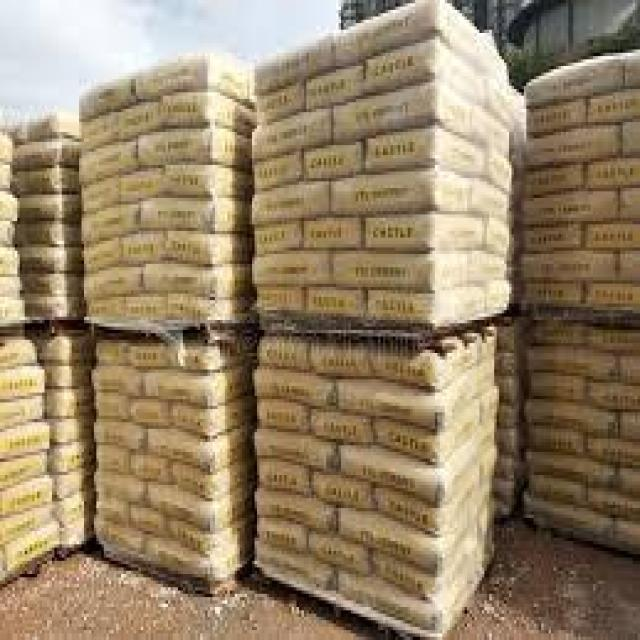gunny_bag: (331, 544, 479, 637), (335, 502, 477, 578), (333, 365, 478, 432), (337, 440, 481, 504), (336, 4, 481, 65), (333, 81, 472, 144), (374, 401, 481, 466), (328, 171, 469, 217), (364, 125, 485, 176), (146, 481, 252, 533), (144, 533, 251, 584), (147, 422, 252, 473), (334, 253, 469, 292), (136, 57, 248, 101), (144, 361, 247, 408), (367, 38, 461, 86), (528, 59, 623, 106), (255, 39, 332, 95), (137, 129, 245, 168), (368, 214, 482, 250), (159, 93, 256, 134), (523, 495, 613, 539), (524, 126, 618, 167), (250, 111, 328, 160), (254, 490, 337, 536), (143, 264, 252, 299), (521, 399, 618, 438), (170, 395, 252, 441), (139, 197, 243, 233), (171, 515, 249, 562), (255, 429, 337, 472), (526, 449, 616, 488), (171, 459, 249, 502), (251, 182, 329, 224), (523, 191, 618, 225), (156, 165, 245, 201), (525, 347, 618, 381), (255, 367, 334, 407), (162, 232, 243, 268), (369, 288, 463, 319), (308, 530, 371, 575), (521, 254, 615, 282), (77, 77, 135, 122), (306, 64, 363, 108), (312, 470, 372, 511), (253, 254, 331, 285), (77, 145, 137, 185), (166, 295, 244, 324), (310, 342, 370, 378), (1, 503, 50, 547), (82, 267, 144, 301), (2, 477, 53, 518), (471, 106, 511, 158), (586, 88, 640, 126), (259, 458, 311, 496), (92, 418, 148, 453), (530, 99, 585, 134), (311, 411, 370, 443), (2, 451, 47, 492), (586, 488, 640, 522), (2, 421, 50, 459), (16, 194, 80, 222), (307, 145, 361, 178), (524, 164, 581, 195), (258, 519, 308, 554), (91, 365, 144, 398), (304, 218, 362, 247), (117, 101, 161, 139), (256, 400, 308, 432), (93, 521, 145, 553), (528, 476, 585, 505), (526, 426, 582, 455), (253, 154, 297, 190), (39, 333, 90, 364), (257, 338, 306, 370), (97, 472, 146, 504), (15, 222, 80, 246), (20, 247, 80, 273), (255, 222, 302, 255), (586, 437, 639, 466), (1, 369, 47, 402), (262, 82, 303, 119), (0, 396, 43, 431), (47, 438, 90, 473), (583, 224, 638, 251), (472, 182, 509, 222), (16, 169, 80, 192), (308, 287, 362, 314), (588, 382, 640, 410), (46, 387, 92, 418), (524, 224, 578, 250), (530, 375, 584, 401), (17, 144, 77, 167), (83, 177, 120, 214), (84, 238, 123, 273), (23, 273, 82, 296), (589, 160, 639, 187), (97, 207, 139, 238), (82, 113, 116, 151), (120, 170, 163, 200), (586, 328, 639, 352), (587, 282, 639, 306), (122, 234, 166, 262), (129, 454, 173, 482), (52, 468, 88, 501), (128, 505, 166, 536), (44, 365, 91, 390), (531, 324, 582, 347), (525, 280, 582, 300), (128, 399, 169, 426), (25, 296, 79, 316), (128, 341, 168, 368), (257, 287, 306, 309), (484, 218, 511, 256), (124, 296, 166, 319), (95, 394, 128, 422), (475, 255, 504, 283), (97, 340, 128, 365)
